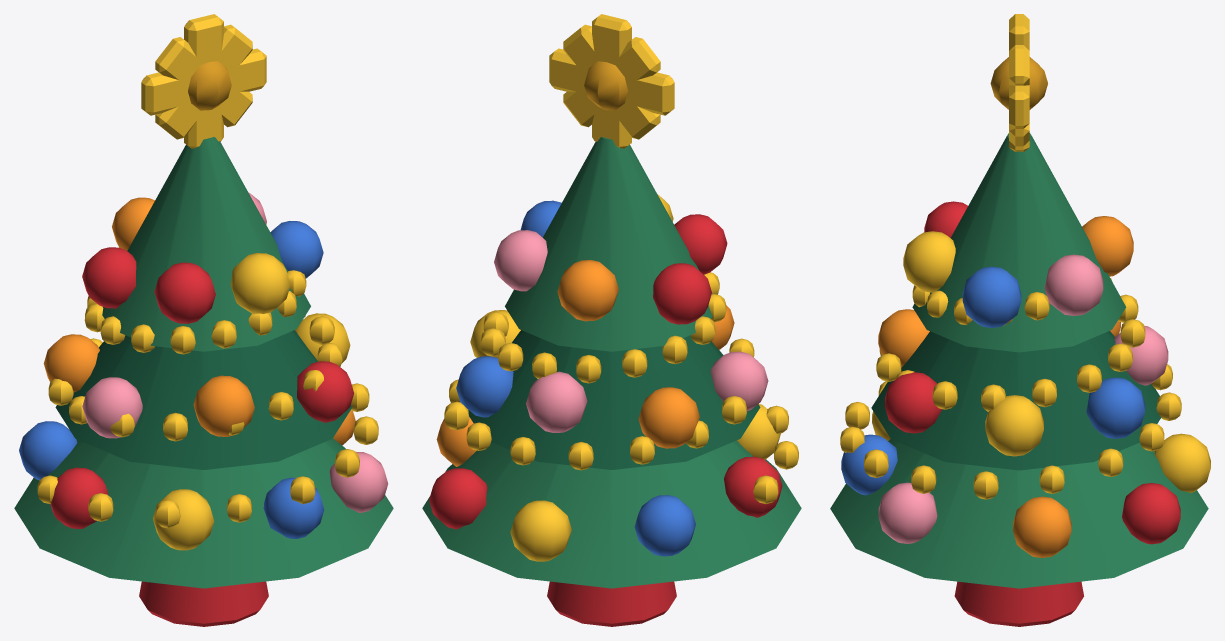
The model's file is vuena-prop-tree-small.glb.
The picture shows the model from 3 angles, left to right: view 1: azimuth 30°, elevation 25°; view 2: azimuth 150°, elevation 25°; view 3: azimuth 270°, elevation 25°; orthographic projection.
Parts seen in each view (by area): view 1: tree_small; view 2: tree_small; view 3: tree_small.
Part boxes in pixels (box(x1,y1,x2,y2)): tree_small: box(14, 14, 393, 626); tree_small: box(422, 14, 801, 626); tree_small: box(830, 14, 1210, 626).
Size of the model in its own units: 0.926 by 1.56 by 0.9252.
Materials: 1 (1 with a texture image).
